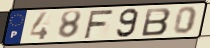0: (173, 5, 199, 36)
4: (29, 11, 49, 42)
8: (56, 10, 83, 41)
9: (116, 8, 141, 38)
B: (140, 7, 173, 37)
F: (83, 9, 116, 40)
